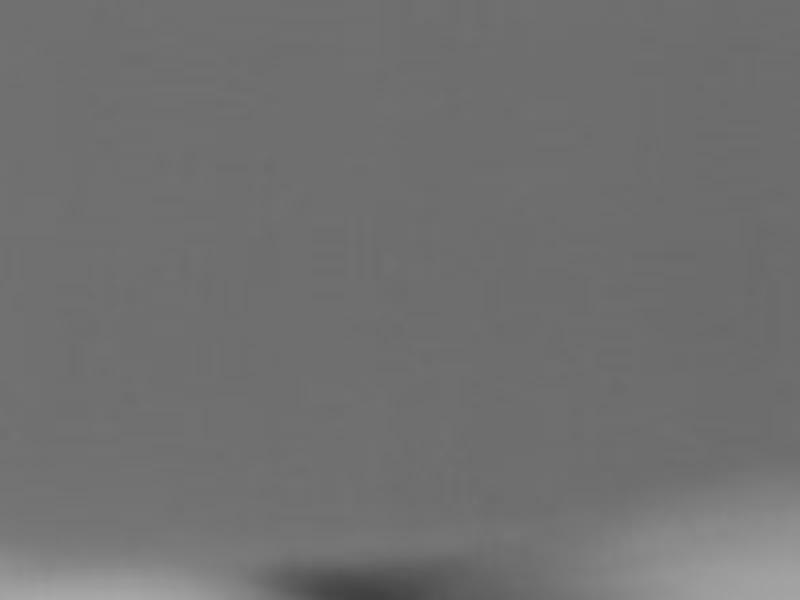defect: (277, 572, 442, 599)
